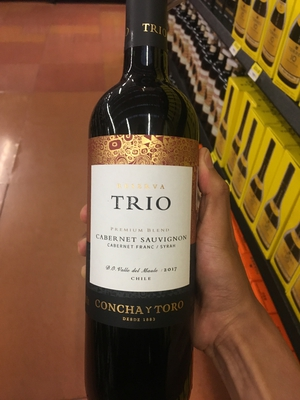trio cabernet sauvignon: (87, 6, 202, 394)
